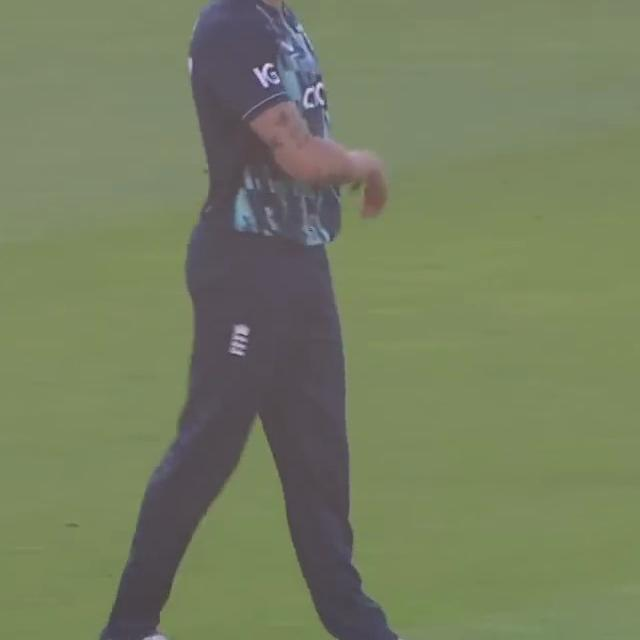person: (77, 0, 452, 640)
